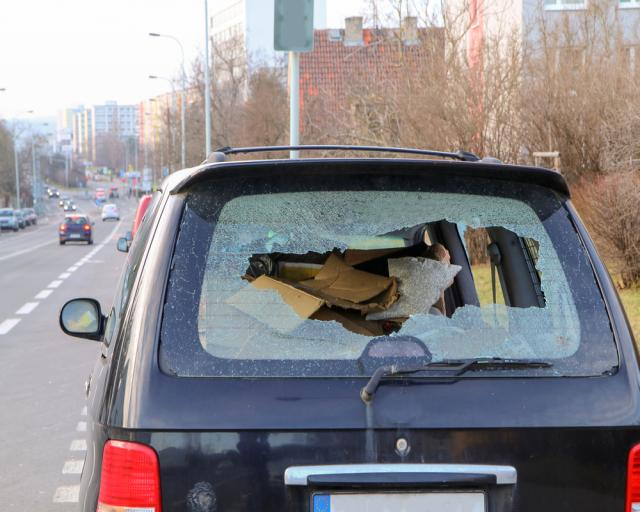glass shatter: (159, 181, 620, 377)
